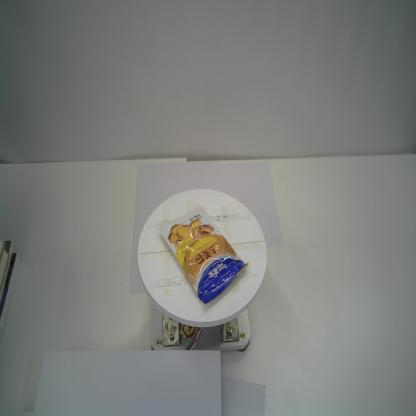Seasoner: (158, 205, 249, 305)
